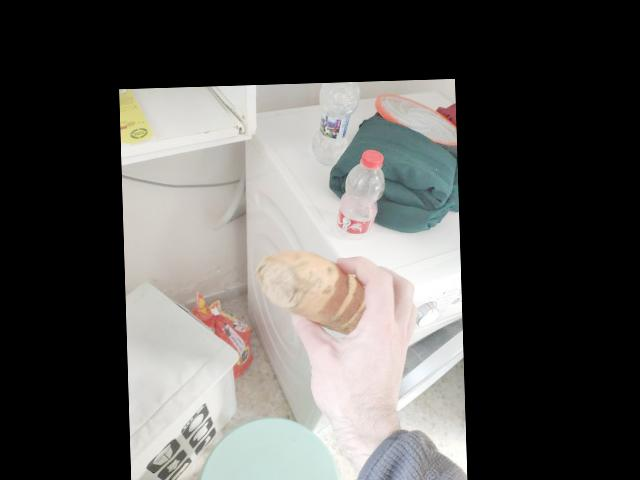sweet_potato: (277, 247, 363, 333)
